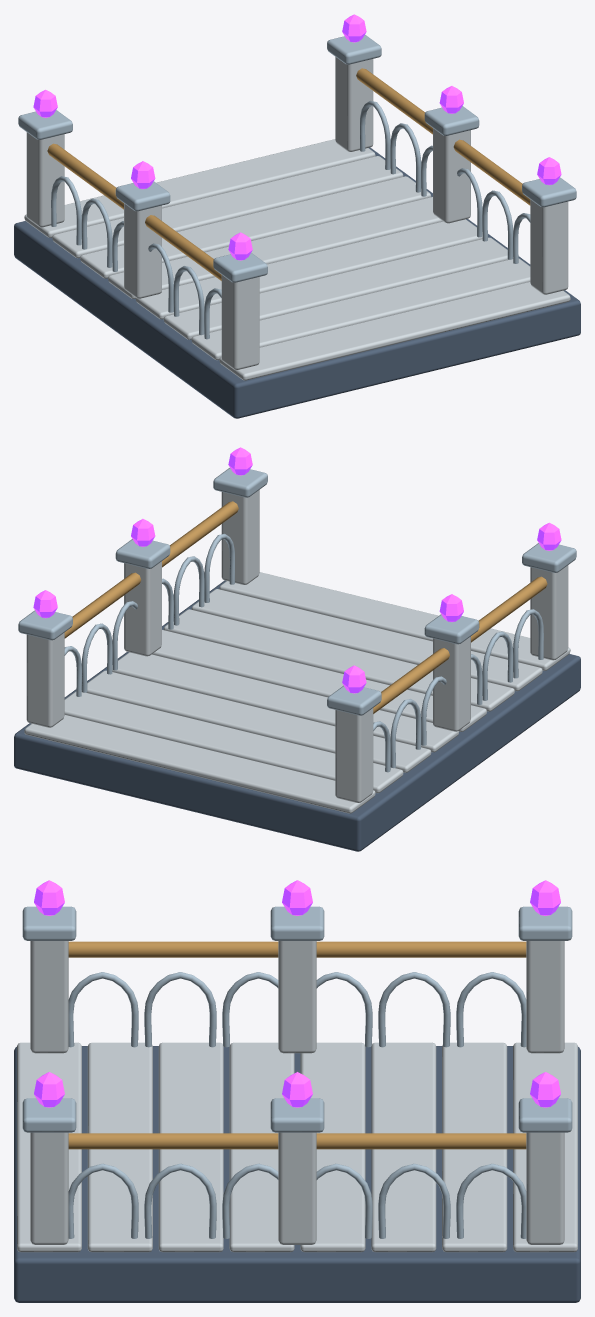
File: moonsteel-convergence-moonstone-bridge-48a85686__18186.glb
3 renders of one model, top to bottom at view 1: azimuth 30°, elevation 25°; view 2: azimuth 150°, elevation 25°; view 3: azimuth 270°, elevation 25°, orthographic. The views are drawn at different scales.
Parts seen in each view (by area): view 1: moonstone-bridge; view 2: moonstone-bridge; view 3: moonstone-bridge.
Boxes of the visible parts, x1,y1,x2,y2 form: moonstone-bridge: (14, 14, 580, 418); moonstone-bridge: (14, 447, 580, 851); moonstone-bridge: (14, 880, 580, 1302).
Size of the model in its own units: 3.6 by 1.72 by 4.
